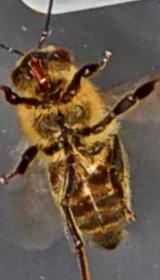varroa_mite: (38, 163, 72, 193)
